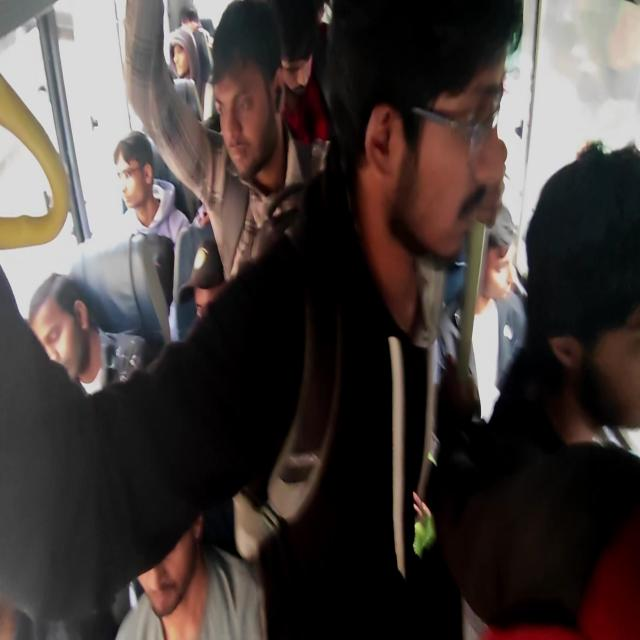person: (348, 9, 502, 255), (529, 175, 640, 424), (127, 465, 203, 617), (213, 41, 286, 182), (28, 281, 96, 390), (185, 248, 257, 344), (470, 206, 512, 307), (110, 148, 160, 224), (159, 34, 199, 89), (178, 8, 206, 42)
